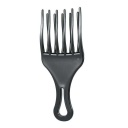Fork: (30, 5, 92, 124)
